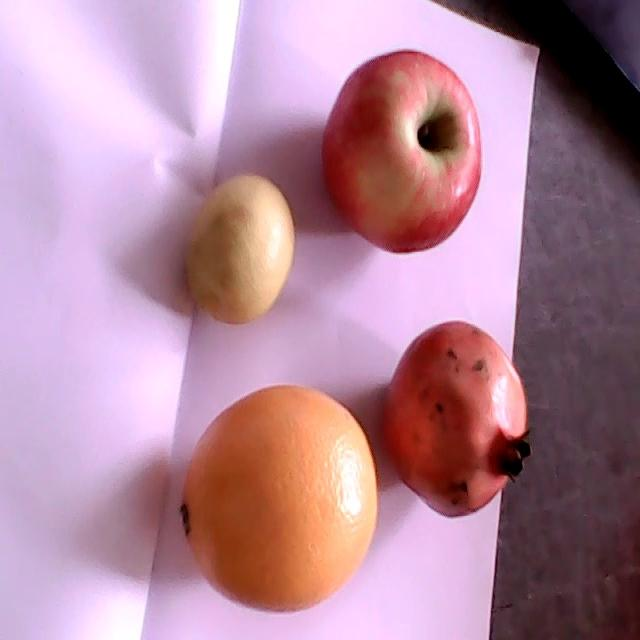apple: (320, 50, 480, 254)
lemon: (184, 172, 296, 323)
orange: (182, 385, 379, 615)
pomegranate: (381, 320, 535, 520)
